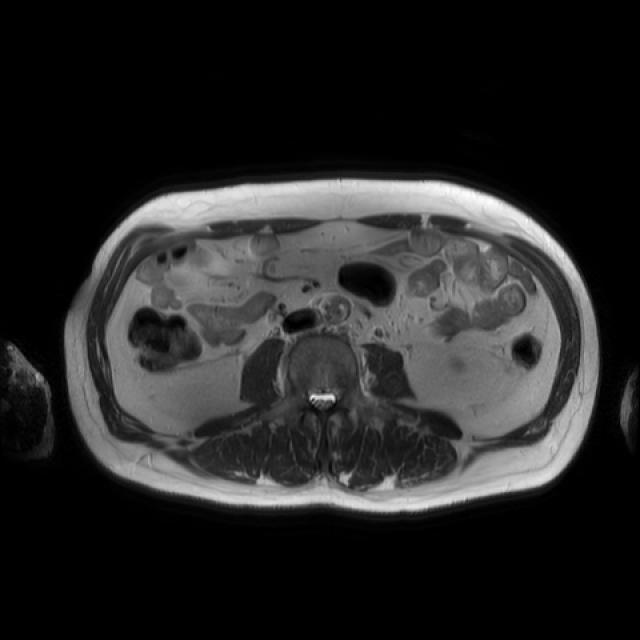sol: (453, 357, 465, 368)
